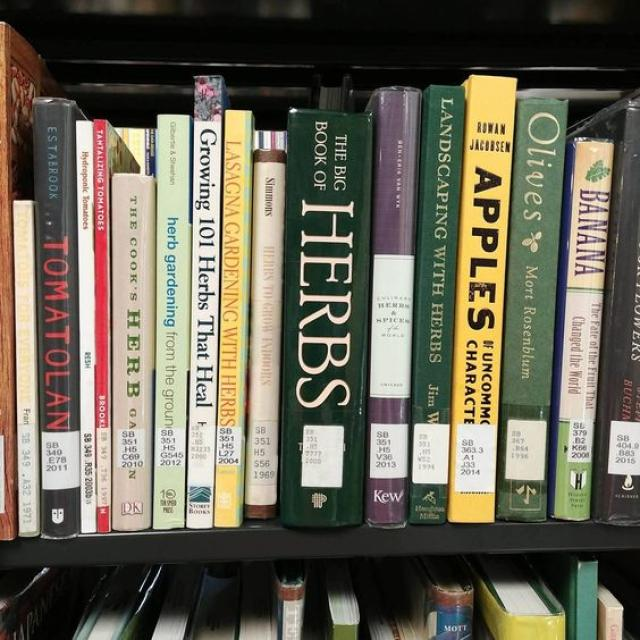book: (282, 108, 377, 526), (451, 75, 515, 523), (501, 100, 567, 522), (365, 85, 423, 522), (409, 86, 466, 524), (554, 138, 614, 520), (33, 96, 80, 537), (186, 74, 223, 529), (152, 113, 192, 530), (214, 109, 252, 527), (243, 148, 285, 518), (112, 175, 153, 531), (13, 199, 42, 534), (75, 120, 96, 531), (94, 118, 112, 534)
